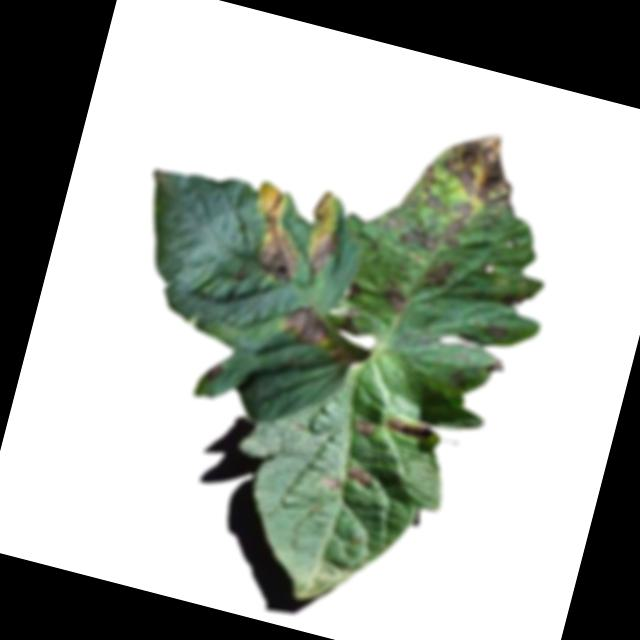Early_blight: (238, 185, 316, 289), (436, 123, 528, 211), (280, 304, 338, 351), (303, 229, 343, 279), (441, 198, 475, 251), (400, 216, 445, 254), (415, 165, 451, 211), (419, 257, 459, 298), (383, 415, 434, 446), (378, 281, 415, 315), (310, 189, 340, 228), (481, 318, 519, 344), (344, 464, 376, 491), (382, 207, 407, 237), (348, 416, 375, 442), (319, 474, 344, 494)
